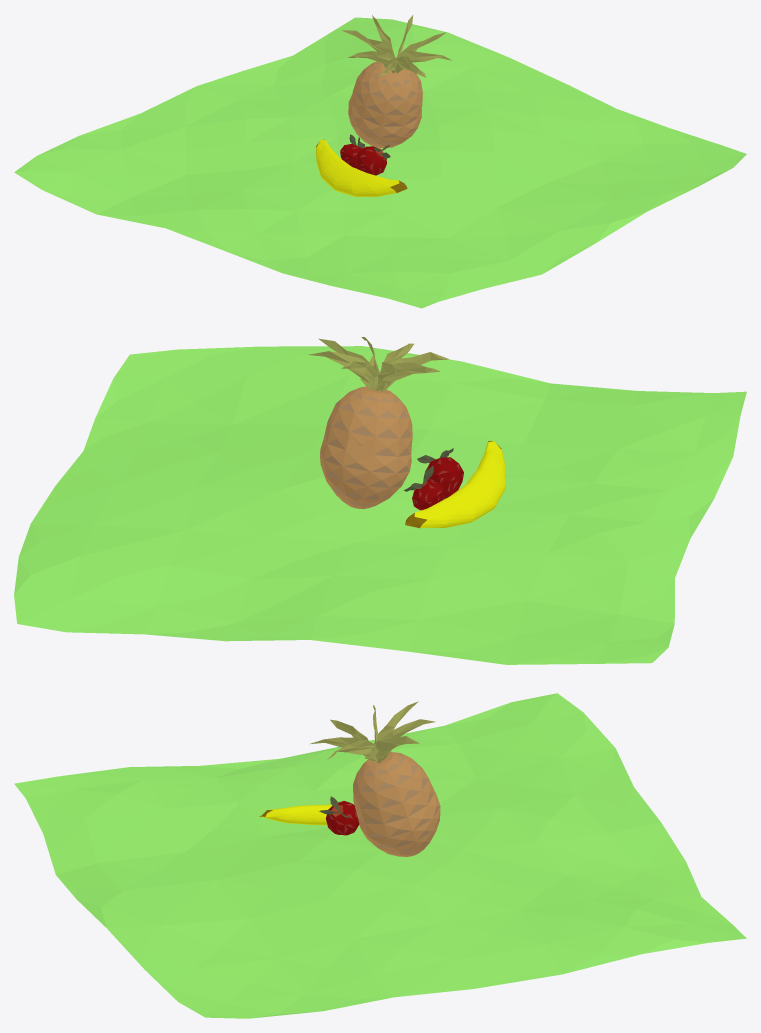
3 views of the same model, one above another, from view 1: azimuth 30°, elevation 25°; view 2: azimuth 150°, elevation 25°; view 3: azimuth 270°, elevation 25° (orthographic). The views are drawn at different scales.
Parts seen in each view (by area): view 1: Plano.002, Plano.001, Plano.003, object 1; view 2: Plano.002, Plano.001, Plano.003, object 1, Plano; view 3: Plano.002, Plano.001, Plano.003, object 1.
Part boxes in pixels (<box>): Plano.002: <box>14,17,746,308</box>; Plano.001: <box>341,15,451,148</box>; Plano.003: <box>315,139,407,196</box>; object 1: <box>356,145,390,175</box>; Plano.002: <box>14,346,746,664</box>; Plano.001: <box>308,337,448,509</box>; Plano.003: <box>405,441,505,528</box>; object 1: <box>417,448,463,499</box>; Plano: <box>404,465,444,510</box>; Plano.002: <box>14,693,746,1018</box>; Plano.001: <box>309,701,440,856</box>; Plano.003: <box>259,804,359,825</box>; object 1: <box>319,796,359,835</box>.
Size of the model in its own units: 16.73 by 3.87 by 16.4.
